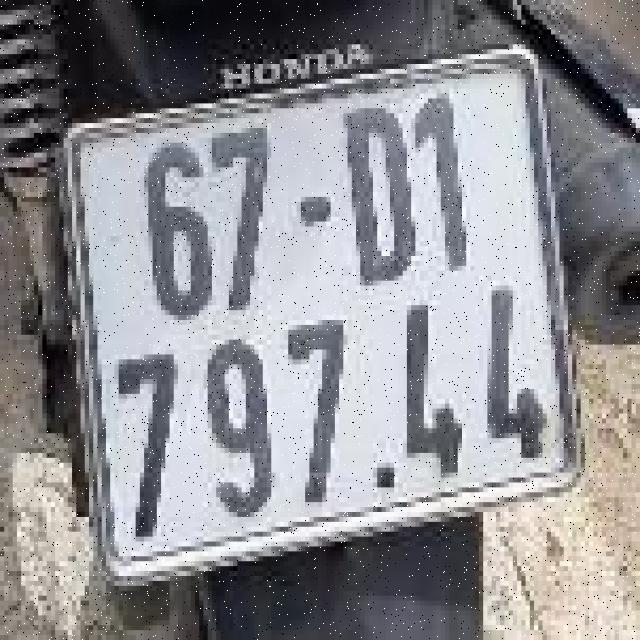1: (414, 81, 486, 278)
4: (398, 296, 466, 488), (485, 286, 553, 462)
6: (144, 136, 216, 318)
7: (282, 320, 354, 512), (110, 344, 178, 542), (216, 123, 276, 325)
9: (197, 330, 278, 522)
D: (328, 104, 418, 280)
